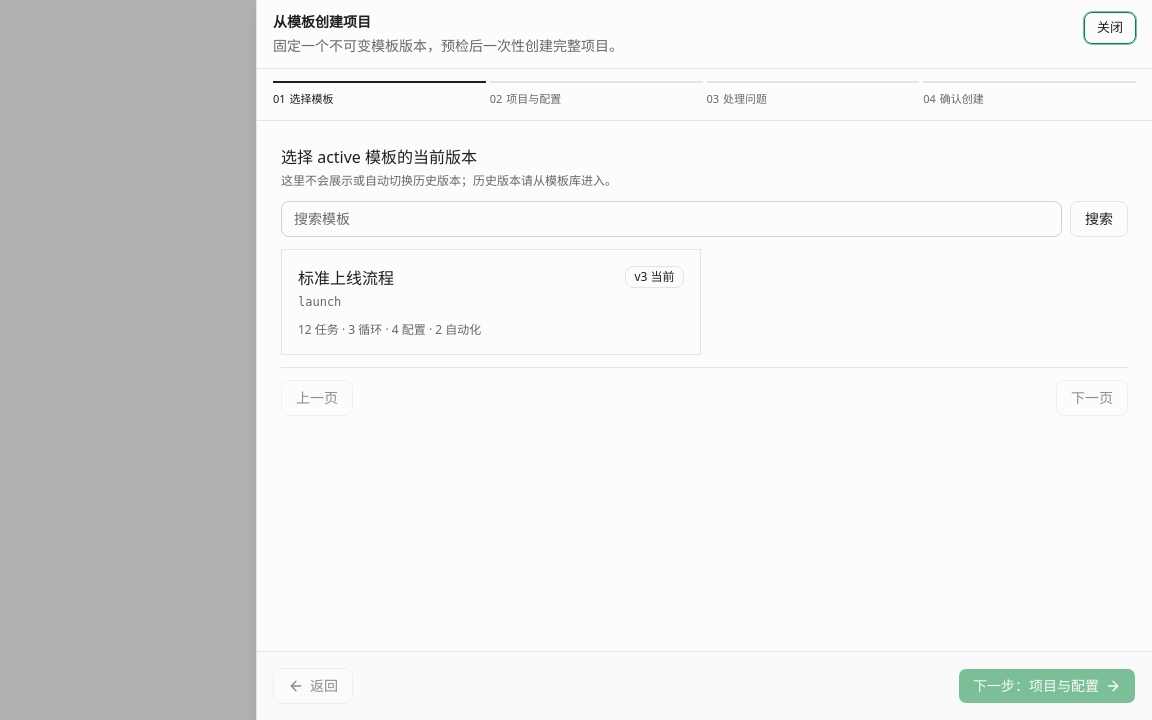
Test case: ProjectTemplateInstantiateWizard › uses Cmd/Ctrl+Enter to advance after selecting a template
Click the button "标准上线流程 v3 当前 launch 12 任务 · 3 循环 · 4 配置 · 2 自动化".
click(346, 278)  # box [281, 248, 700, 354]
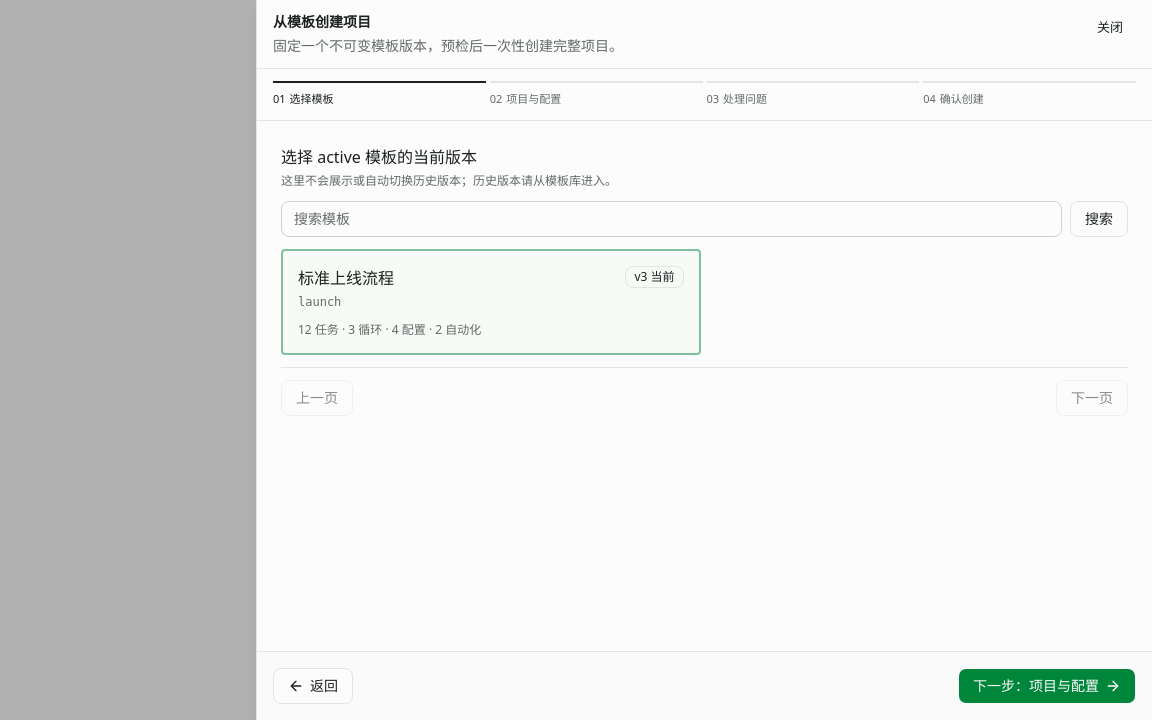
Type keys "{Control>}{Enter}{/Control}"
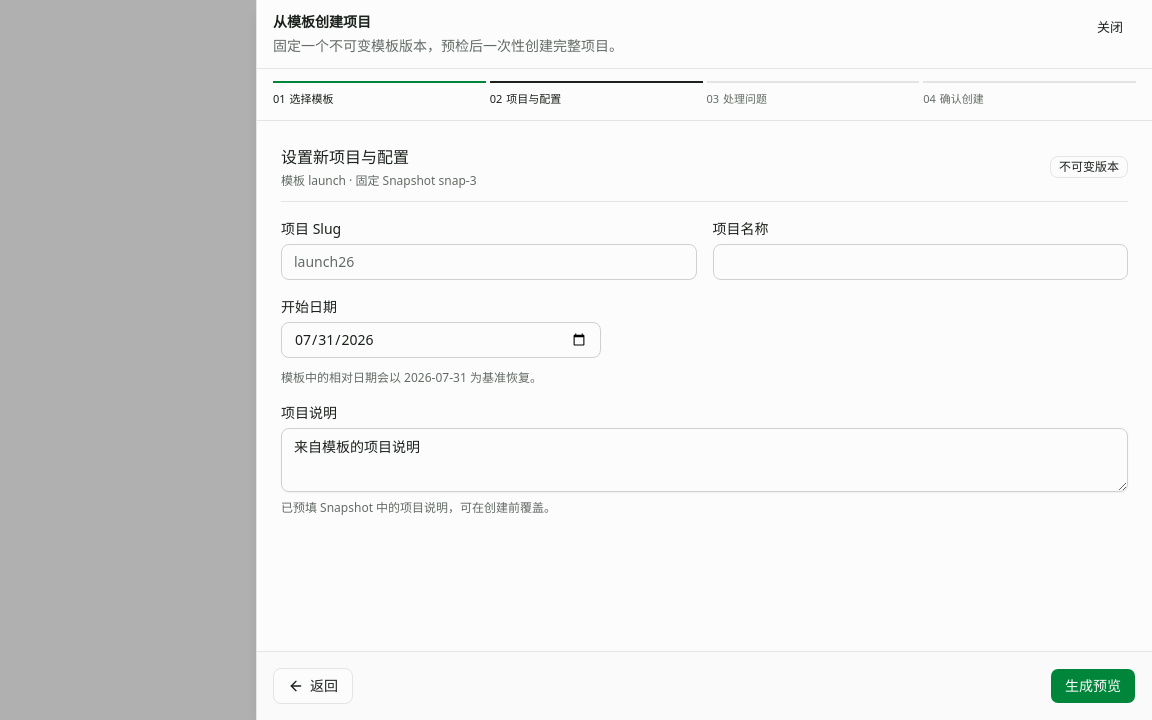
Now the field labelled "项目 Slug" is shown, box [281, 244, 696, 280]
